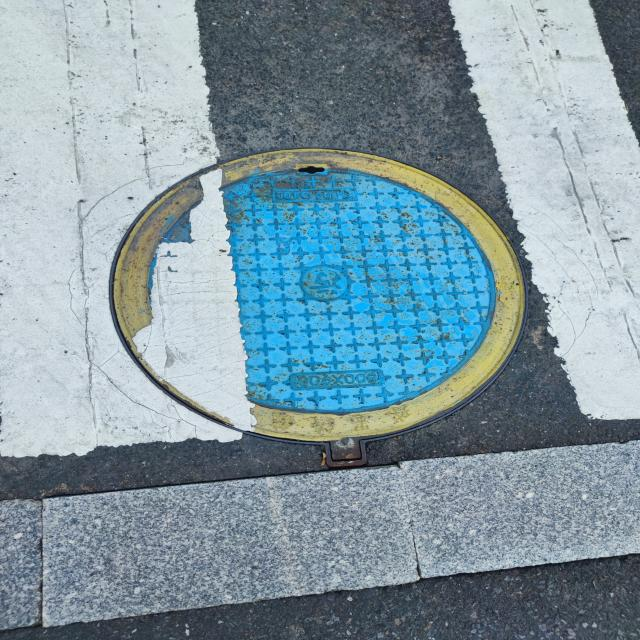Good: (105, 144, 531, 469)
